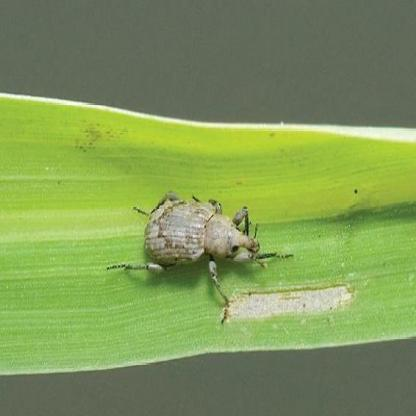rice-bug: (117, 191, 266, 307)
